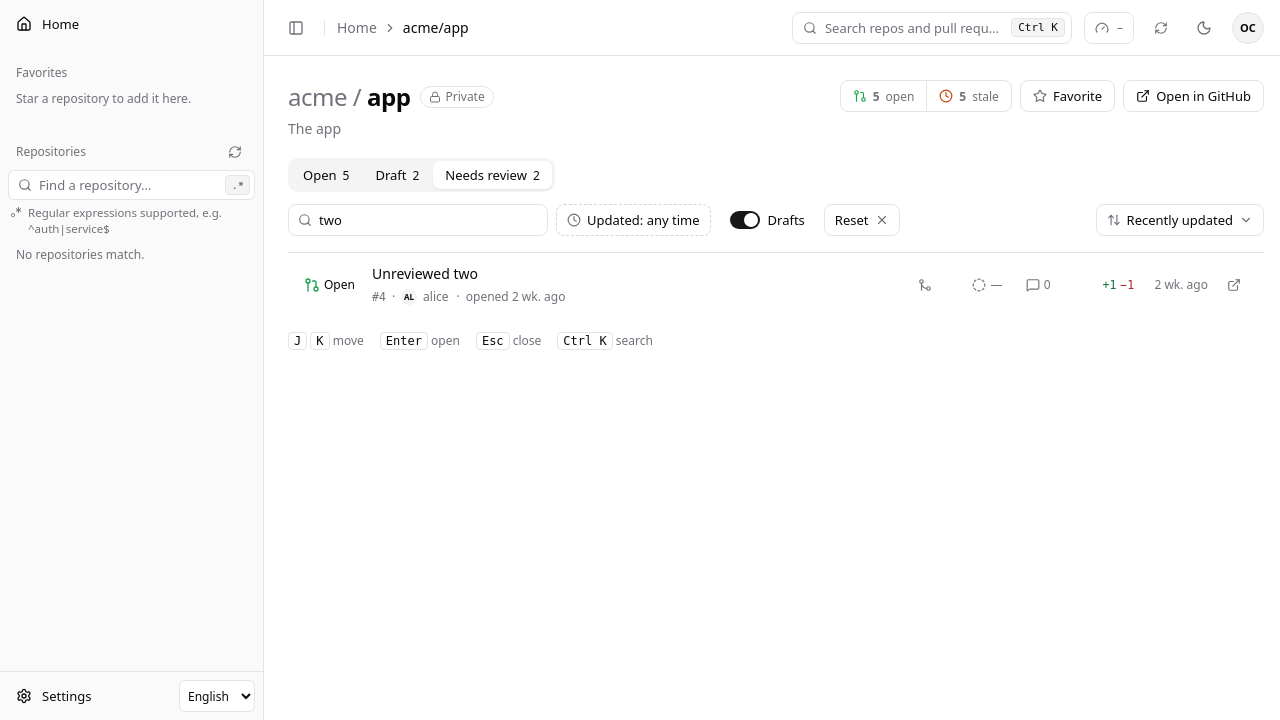
it: a reload keeps the tab and the filters beside it, and filtering keeps the tab
Check: the link "Unreviewed two" is shown, box [372, 264, 478, 283]
Replace the text in the search field named "Filter pull requests" with "one": {"x": 418, "y": 220} [288, 204, 548, 236]
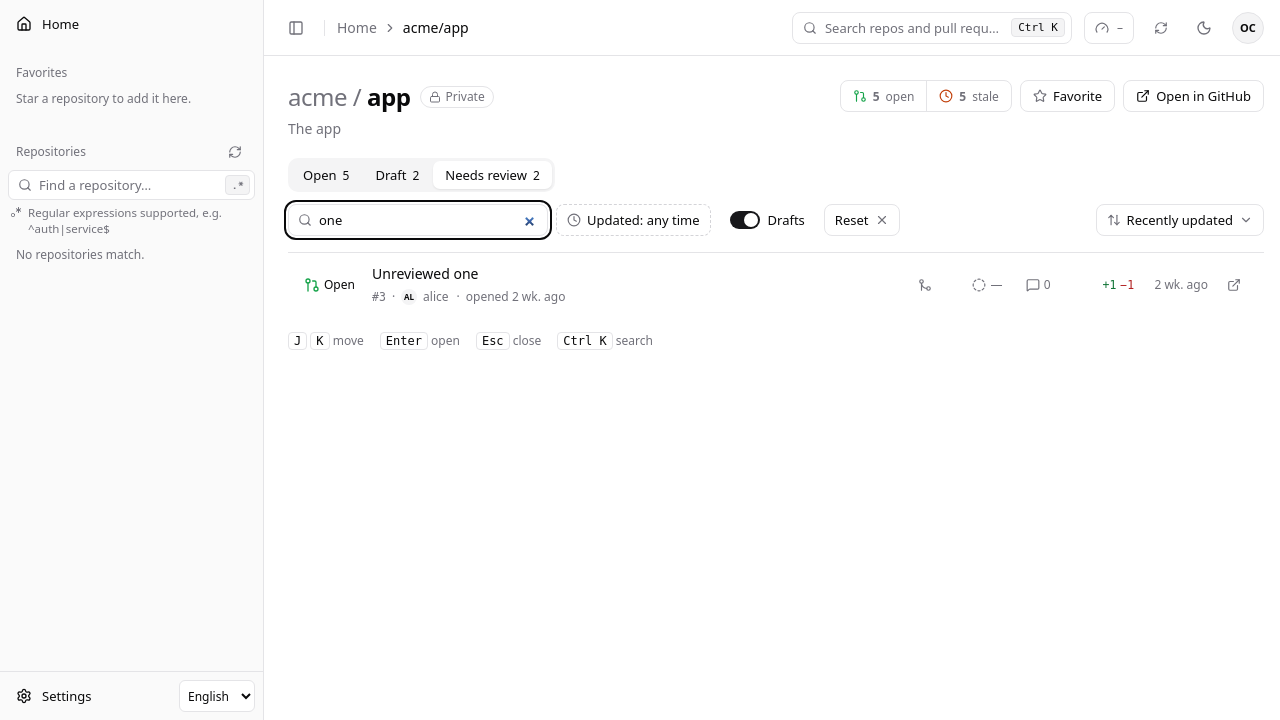
Check: the link "Unreviewed one" is shown, box [372, 264, 478, 283]
